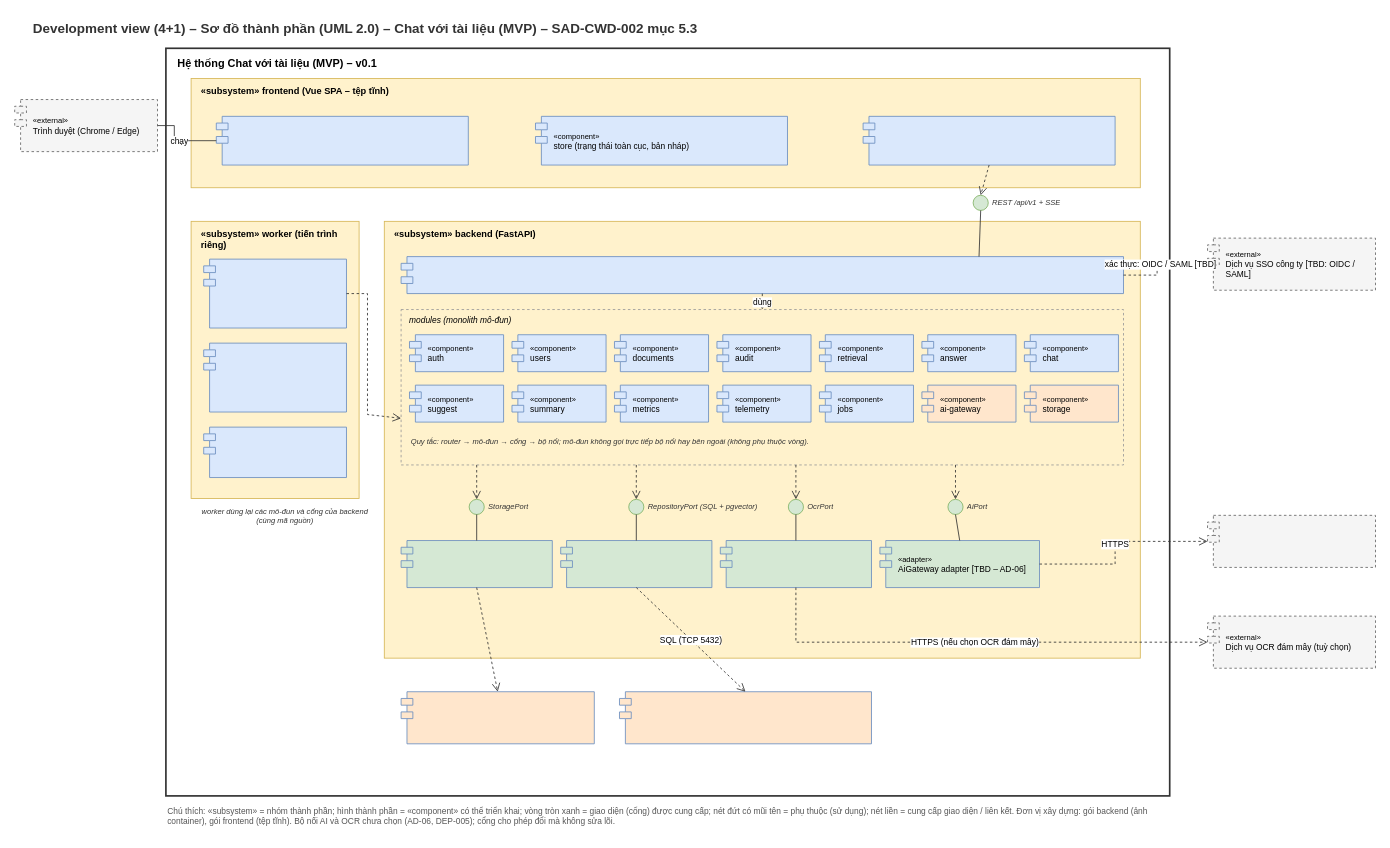
Some shapes in this 1390 by 848 pixel diagram are drawn without their labels. The shapes that lost their labels are listed below. From the top down, each one's centre as x and y in pixels, then its label:
At point (341, 140): "«component» views + components (S-01…S-09)".
At point (988, 140): "«component» api client + SSE client (fetch stream)".
At point (274, 293): "«component» ingest: trích văn bản, OCR, chia chunk, lập chỉ mục".
At point (762, 275): "«component» api (routers + auth middleware): API-01 … API-17".
At point (274, 377): "«component» scheduler: xóa theo lịch, hết hạn 90 ngày, tạo gợi ý".
At point (274, 452): "«component» jobs: hàng đợi trong PostgreSQL".
At point (1291, 540): "«external» Dịch vụ AI bên ngoài [TBD – AD-06]".
At point (476, 564): "«adapter» FileStorageAdapter".
At point (636, 564): "«adapter» repositories (SQL + pgvector)".
At point (795, 564): "«adapter» OcrAdapter [TBD – DEP-005]".
At point (497, 717): "«storage» Kho tệp PDF (đĩa mã hóa / NAS)".
At point (745, 717): "«database» PostgreSQL + pgvector (dữ liệu, chỉ mục, hàng đợi)".
